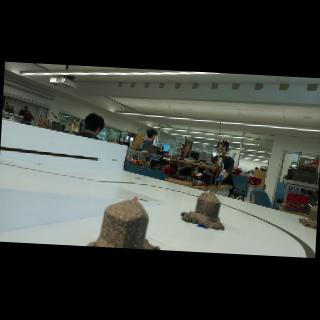teletubby: (132, 196, 138, 201), (207, 190, 210, 193)
